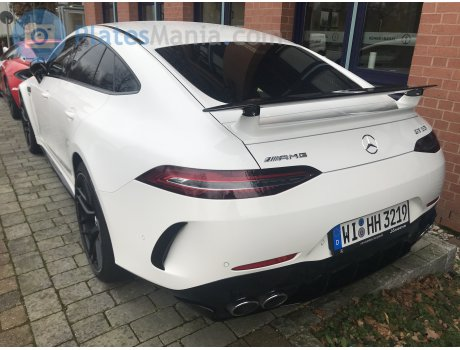License Plates: (345, 210, 407, 224)
